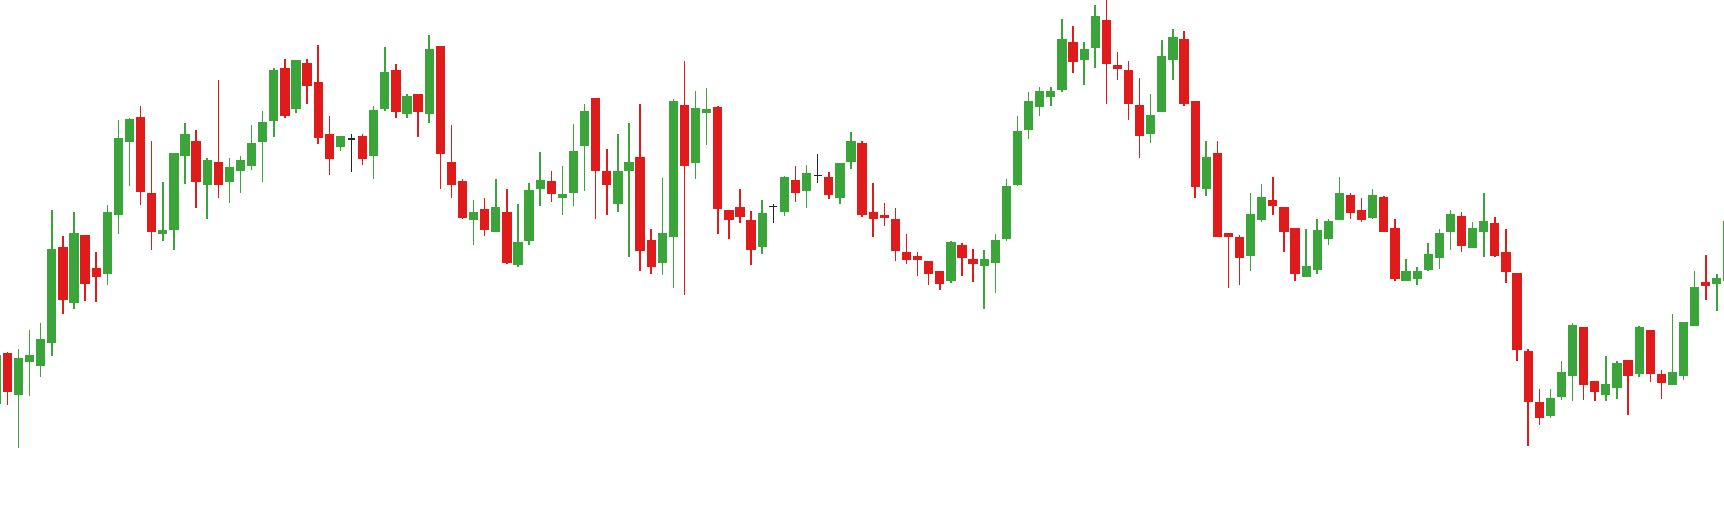buy: (498, 147, 666, 280), (1286, 217, 1426, 286)
sell: (213, 56, 292, 171), (376, 37, 447, 122)
